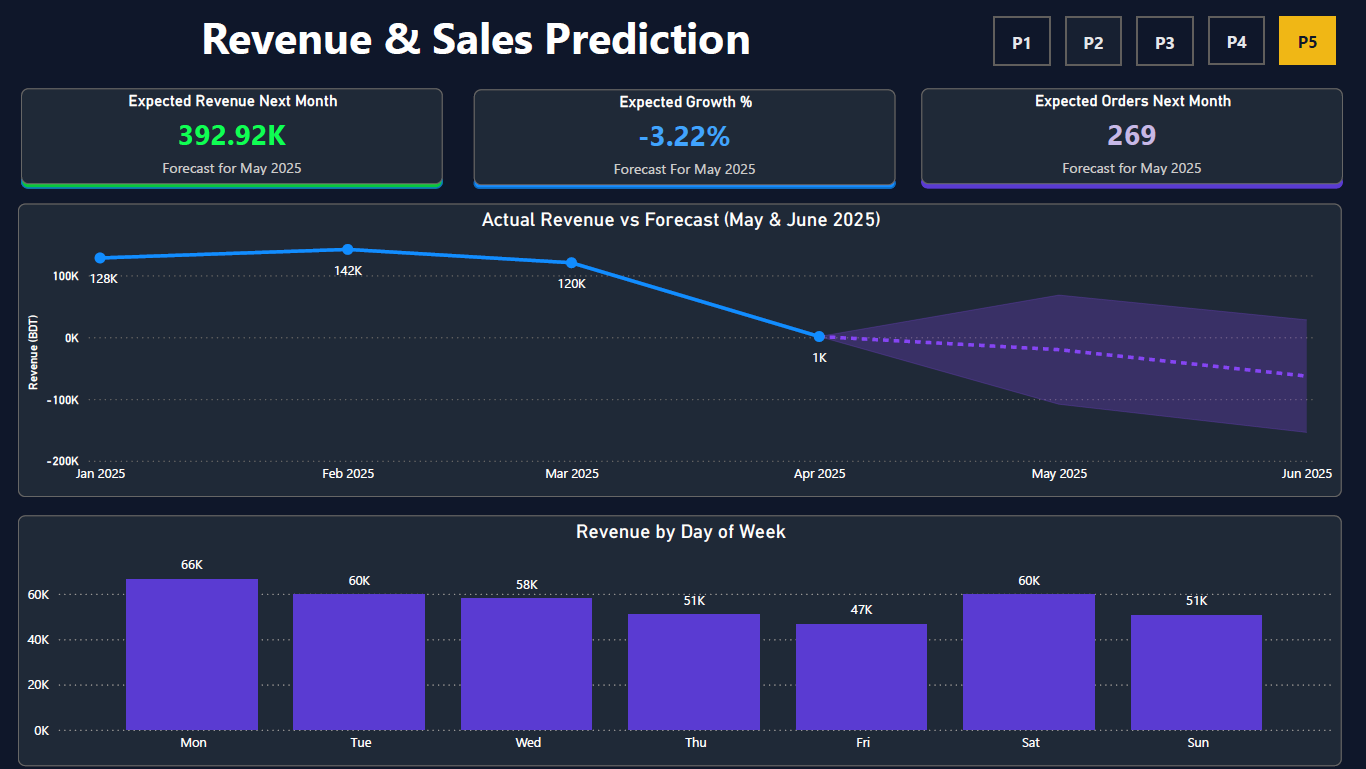

This screenshot's page, from the dashboard's own definition file:
{"tool":"powerbi","page":{"name":"Page 5","canvas":[1280,720],"ordinal":4},"visuals":[{"type":"shape","box":[176.7,5,540,56.7],"z":0},{"type":"shape","box":[864.1,163.4,395,12],"z":0,"group":"g5"},{"type":"group","id":"g1","title":"Group 2","box":[932.4,14.5,320,45],"z":1000},{"type":"shape","box":[444.8,165.1,395,10],"z":1000,"group":"g3"},{"type":"group","id":"g2","title":"Group 1","box":[20.8,81.9,395,95],"z":2000,"group":"g4"},{"type":"card","title":"Expected Growth %","fields":{"Values":["MeasureTable.Expected Growth %"]},"box":[444.8,82.6,395,90],"z":2000,"group":"g3"},{"type":"lineChart","title":"Actual Revenue vs Forecast (May & June 2025)","fields":{"Y":["MeasureTable.Total Revenue"],"Category":["Date Table.Year-Month"]},"box":[18.3,190,1240,275],"z":2000},{"type":"group","id":"g3","title":"Group 3","box":[444.8,82.6,395,92.5],"z":3000,"group":"g4"},{"type":"shape","box":[20.8,163.2,395.3,12.7],"z":3000,"group":"g2"},{"type":"clusteredColumnChart","title":"Revenue by Day of Week","fields":{"Y":["MeasureTable.Total Revenue"],"Category":["Date Table.Day Name"]},"box":[18.3,481.7,1240,235],"z":3000},{"type":"group","id":"g4","title":"Group 5","box":[20.8,81.9,1238.3,95],"z":4000},{"type":"group","id":"g5","title":"Group 4","box":[864.1,81.9,395,95],"z":4000,"group":"g4"},{"type":"card","title":"Expected Revenue Next Month","fields":{"Values":["MeasureTable.Expected Revenue Next Month"]},"box":[20.8,81.9,395.3,90],"z":6000,"group":"g2"},{"type":"card","title":"Expected Orders Next Month","fields":{"Values":["MeasureTable.Expected Orders Next Month"]},"box":[864.3,81.9,395,90],"z":7000,"group":"g5"},{"type":"actionButton","title":"P1","box":[1066.5,14.6,52.5,45.5],"z":9000,"group":"g1"},{"type":"actionButton","title":"P1","box":[1133.4,14.5,52.5,45.5],"z":10000,"group":"g1"},{"type":"actionButton","title":"P1","box":[1200.3,14.5,52.5,45.5],"z":11000,"group":"g1"},{"type":"actionButton","title":"P1","box":[999.5,14.6,52.5,45.5],"z":12000,"group":"g1"},{"type":"actionButton","title":"P1","box":[932.4,14.6,52.5,45.5],"z":13000,"group":"g1"}]}

Visuals, with their boxes in screenshot pixels (x1, y1, x2, y2), scaled from the page's 1280x720 canvas onto the 1366x769 screenshot:
shape: 189, 5, 765, 66
shape: 922, 175, 1344, 187
"Group 2" group: 995, 15, 1337, 64
shape: 475, 176, 896, 187
"Group 1" group: 22, 87, 444, 189
"Expected Growth %" card: 475, 88, 896, 184
"Actual Revenue vs Forecast (May & June 2025)" lineChart: 20, 203, 1343, 497
"Group 3" group: 475, 88, 896, 187
shape: 22, 174, 444, 188
"Revenue by Day of Week" clusteredColumnChart: 20, 514, 1343, 765
"Group 5" group: 22, 87, 1344, 189
"Group 4" group: 922, 87, 1344, 189
"Expected Revenue Next Month" card: 22, 87, 444, 184
"Expected Orders Next Month" card: 922, 87, 1344, 184
"P1" actionButton: 1138, 16, 1194, 64
"P1" actionButton: 1210, 15, 1266, 64
"P1" actionButton: 1281, 15, 1337, 64
"P1" actionButton: 1067, 16, 1123, 64
"P1" actionButton: 995, 16, 1051, 64
